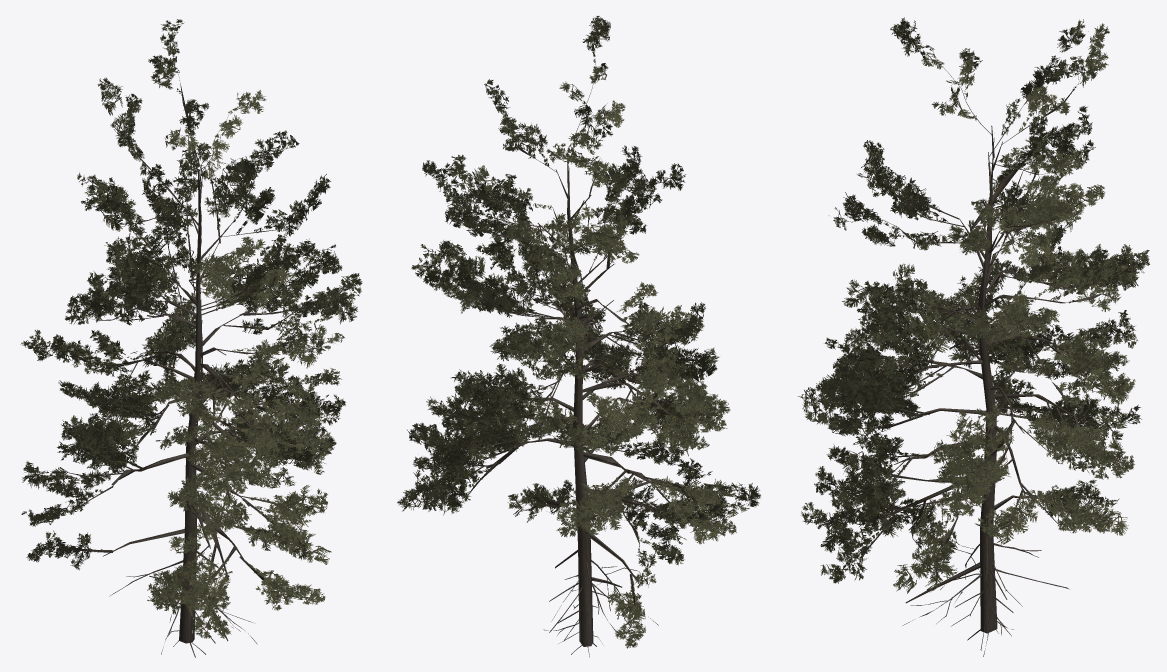
File: pine-sapling-medium-c.glb
The picture shows the model from 3 angles, left to right: view 1: azimuth 30°, elevation 25°; view 2: azimuth 150°, elevation 25°; view 3: azimuth 270°, elevation 25°; orthographic projection. The views are drawn at different scales.
Parts seen in each view (by area): view 1: pine_sapling_medium_c; view 2: pine_sapling_medium_c; view 3: pine_sapling_medium_c.
Boxes of the visible parts, x1=… form: pine_sapling_medium_c: x1=20, y1=19, x2=362, y2=657; pine_sapling_medium_c: x1=397, y1=16, x2=760, y2=657; pine_sapling_medium_c: x1=798, y1=17, x2=1149, y2=656.
Size of the model in its own units: 3.86 by 7.02 by 3.56.
Materials: 2 (2 with a texture image).
